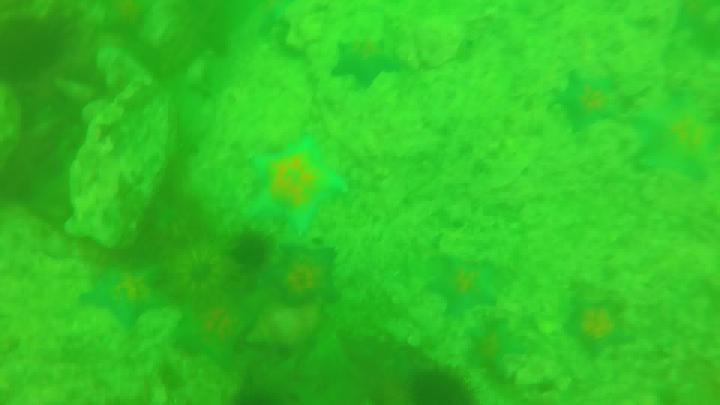echinus: (231, 233, 266, 269)
starfish: (253, 141, 350, 232), (637, 82, 720, 183), (77, 262, 178, 327), (464, 314, 537, 381), (269, 246, 339, 307), (433, 265, 501, 316), (333, 41, 402, 90), (551, 72, 613, 126), (567, 303, 621, 358)
